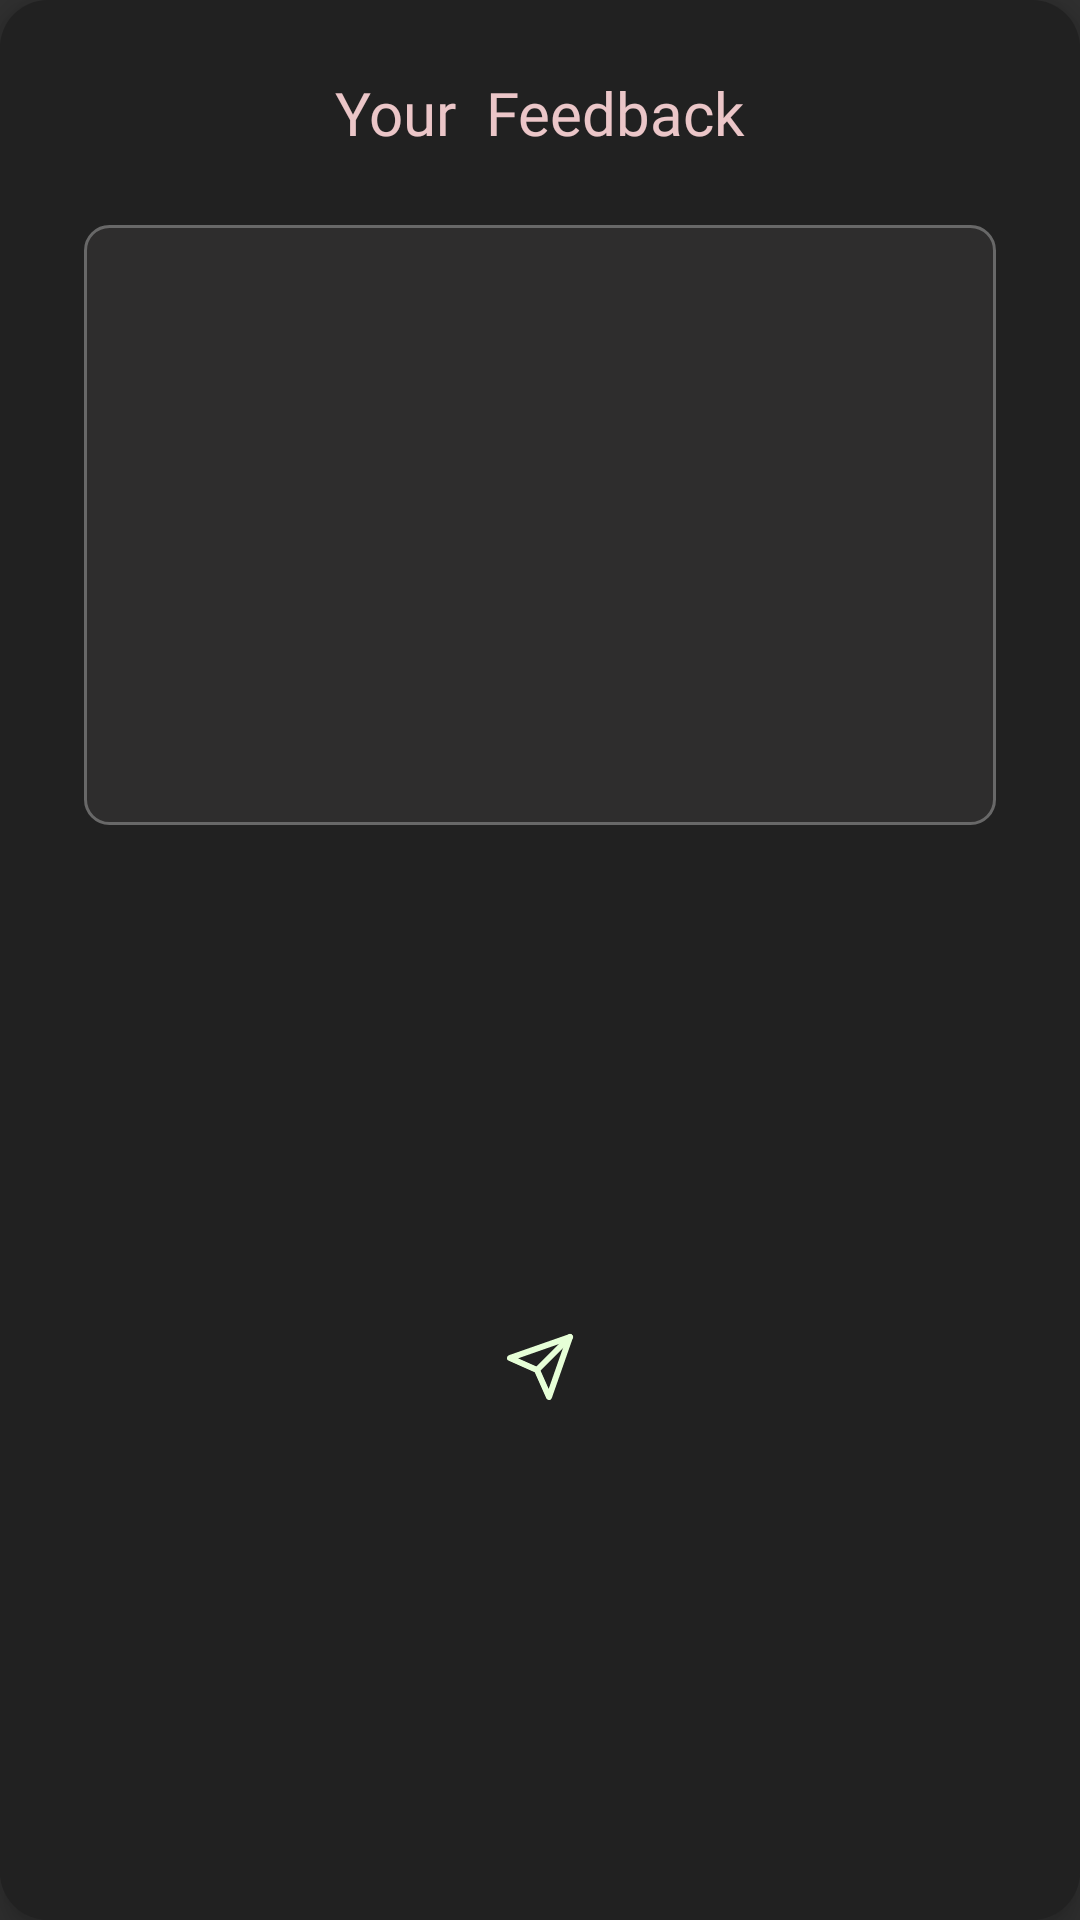

Icons on this 1080w x 1920h Android screen, each with the point to tap as (x=x, y=y):
send: (x=540, y=1367)
